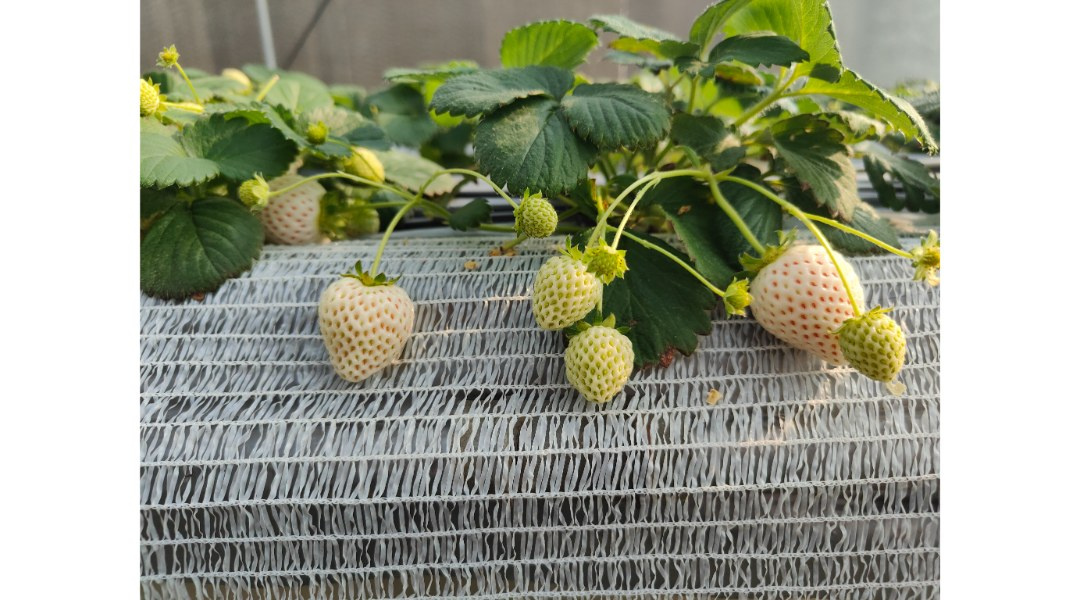berry: (731, 230, 876, 360), (311, 257, 428, 395), (566, 305, 634, 418), (521, 247, 605, 331), (829, 299, 899, 396), (262, 168, 333, 242), (907, 223, 958, 295), (508, 182, 561, 248), (583, 232, 629, 281), (715, 272, 758, 316), (231, 170, 268, 220), (128, 78, 161, 120)
strain: (578, 171, 655, 261), (624, 230, 724, 296), (811, 203, 907, 256), (707, 185, 761, 258), (367, 204, 410, 287), (444, 163, 520, 205), (614, 182, 651, 251), (729, 172, 789, 204), (274, 170, 332, 198)
